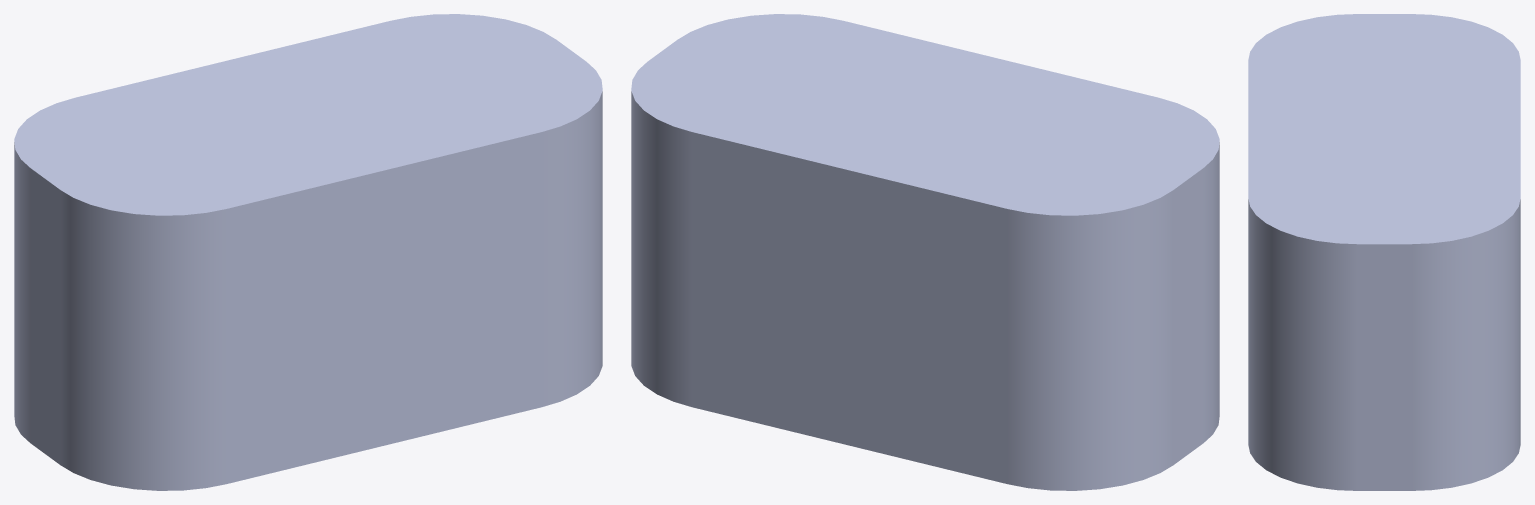
The model's file is tictac_skinyyy_.fbx.
The picture shows the model from 3 angles, left to right: view 1: azimuth 30°, elevation 25°; view 2: azimuth 150°, elevation 25°; view 3: azimuth 270°, elevation 25°; orthographic projection. The views are drawn at different scales.
Parts seen in each view (by area): view 1: Body1; view 2: Body1; view 3: Body1.
Boxes of the visible parts, box(x1,y1,x2,y2) form: Body1: box(14, 14, 602, 490); Body1: box(631, 14, 1219, 490); Body1: box(1248, 14, 1520, 490).
Bounding box in the file's own units: 2 × 1 × 1.
